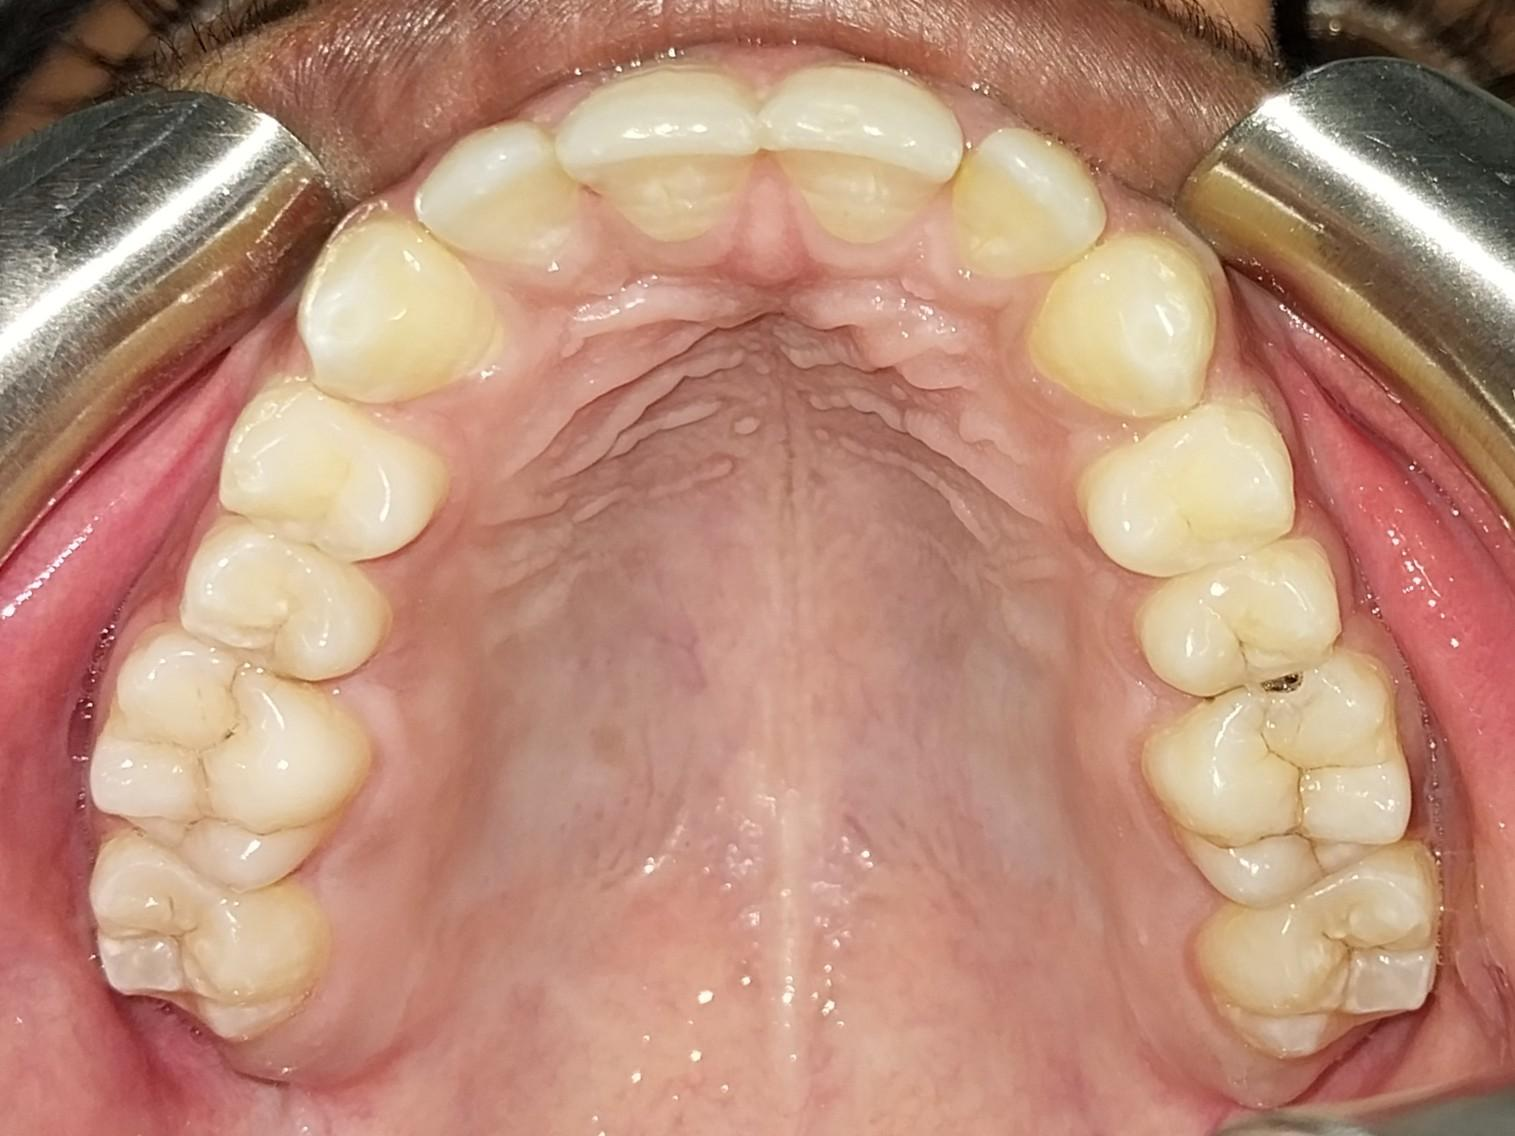D: (1151, 662, 1412, 910)
